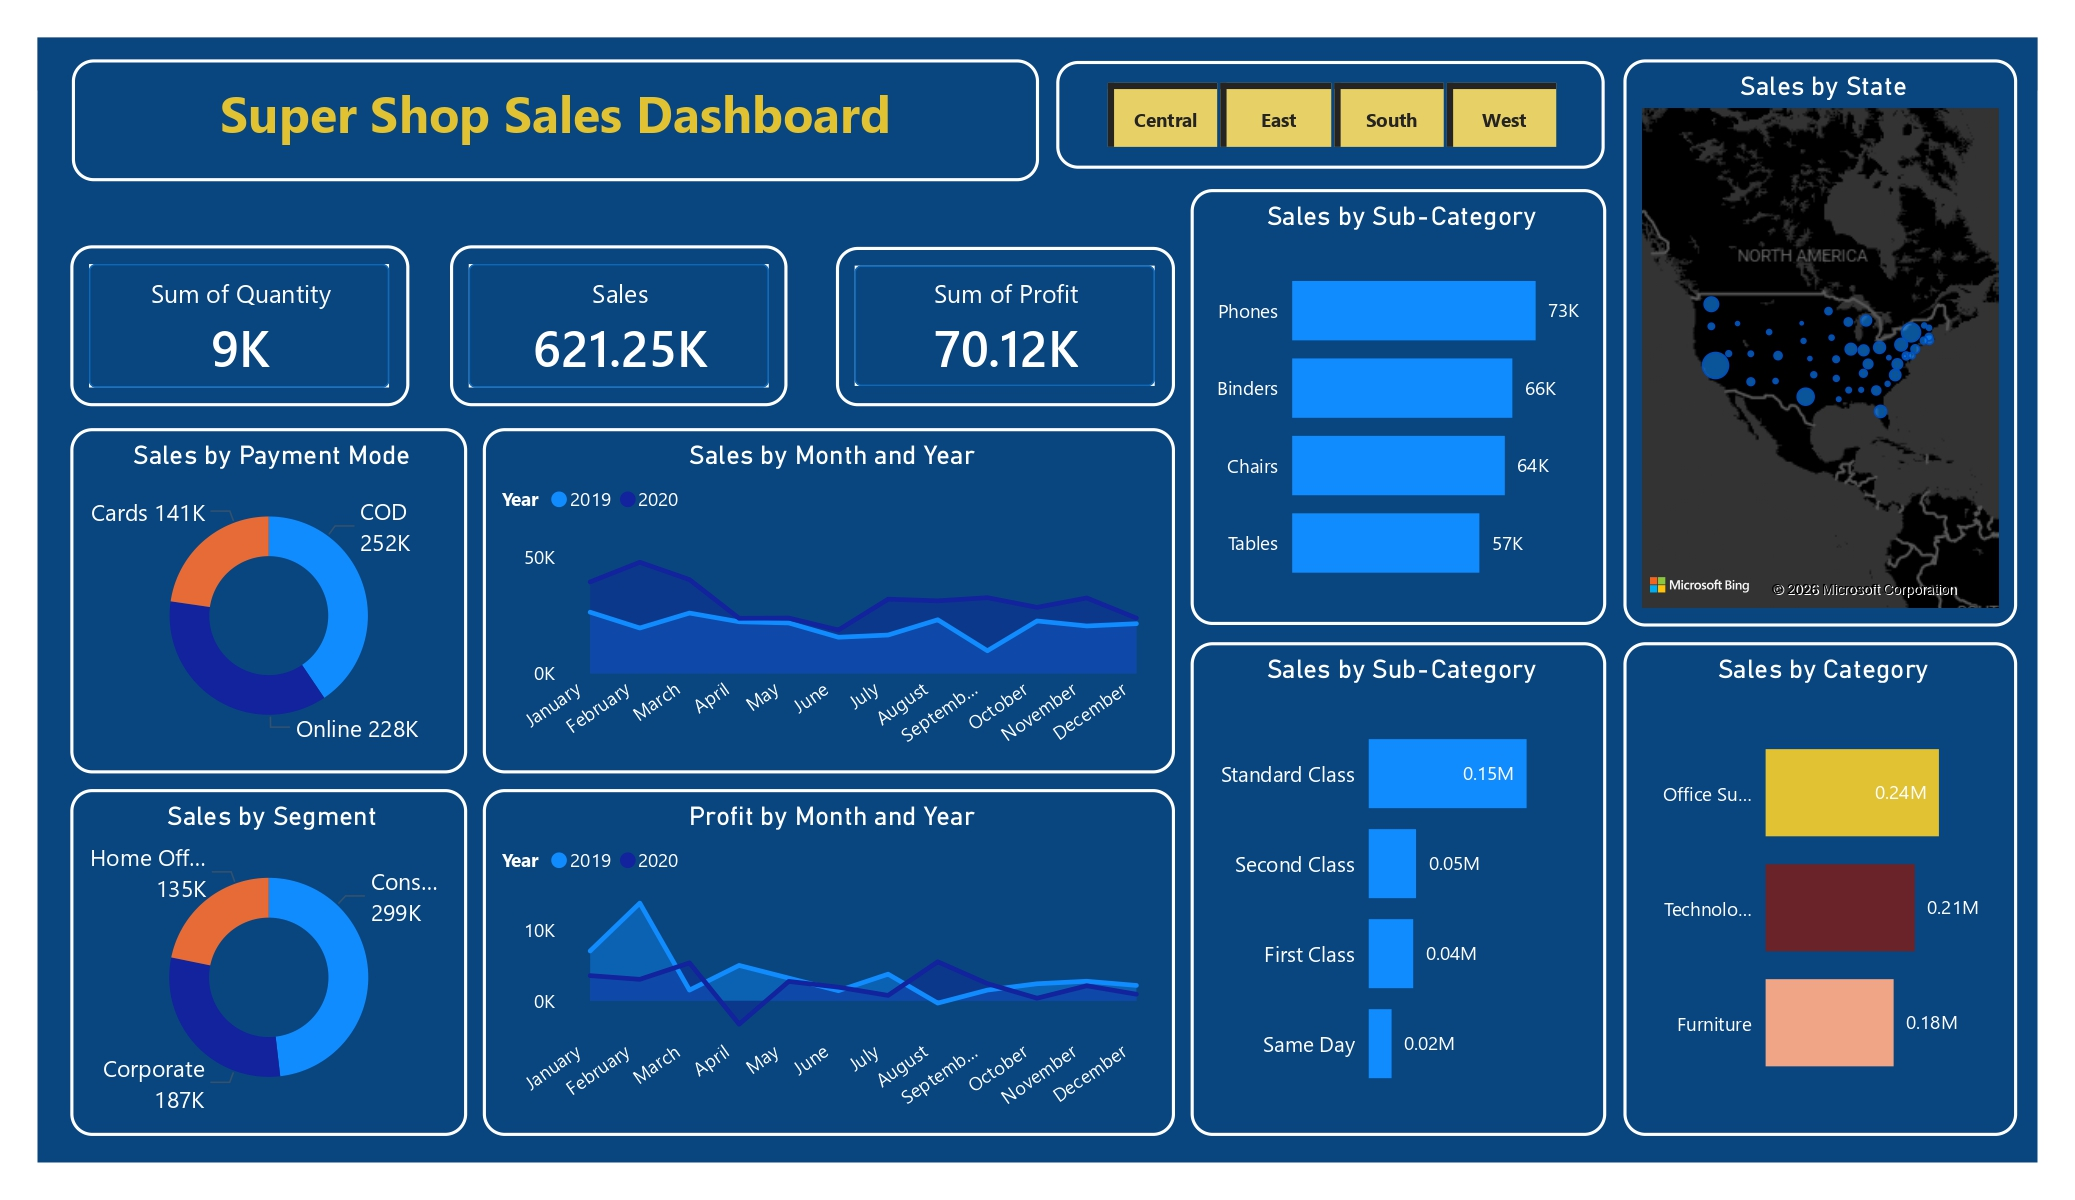

The dashboard page shown, as its layout file describes it:
{"tool":"powerbi","page":{"name":"Page 1","canvas":[1280,720],"ordinal":0},"visuals":[{"type":"clusteredBarChart","title":"Sales by Category","fields":{"Category":["SuperStore_Sales_Dataset.Category"],"Y":["Sum(SuperStore_Sales_Dataset.Sales)"]},"box":[1014.8,386.9,252.5,316.4],"z":0},{"type":"clusteredBarChart","title":"Sales by Sub-Category","fields":{"Y":["Sum(SuperStore_Sales_Dataset.Sales)"],"Category":["SuperStore_Sales_Dataset.Sub-Category"]},"box":[738.2,97.4,265.7,279],"z":1000},{"type":"clusteredBarChart","title":"Sales by Sub-Category","fields":{"Y":["Sum(SuperStore_Sales_Dataset.Sales)"],"Category":["SuperStore_Sales_Dataset.Ship Mode"]},"box":[738.2,386.8,265.7,315.9],"z":2000},{"type":"areaChart","title":"Sales by Month and Year","fields":{"Category":["SuperStore_Sales_Dataset.Order Date.Variation.Date Hierarchy.Month"],"Y":["Sum(SuperStore_Sales_Dataset.Sales)"],"Series":["SuperStore_Sales_Dataset.Order Date.Variation.Date Hierarchy.Year"]},"box":[284.9,249.5,442.9,221.5],"z":3000},{"type":"areaChart","title":"Profit by Month and Year","fields":{"Category":["SuperStore_Sales_Dataset.Order Date.Variation.Date Hierarchy.Month"],"Series":["SuperStore_Sales_Dataset.Order Date.Variation.Date Hierarchy.Year"],"Y":["Sum(SuperStore_Sales_Dataset.Profit)"]},"box":[284.9,481.3,442.9,221.5],"z":4000},{"type":"map","title":"Sales by State","fields":{"Category":["SuperStore_Sales_Dataset.State"],"Size":["Sum(SuperStore_Sales_Dataset.Sales)"]},"box":[1015.2,14.4,252,362.9],"z":5000},{"type":"donutChart","title":"Sales by Payment Mode","fields":{"Category":["SuperStore_Sales_Dataset.Payment Mode"],"Y":["Sum(SuperStore_Sales_Dataset.Sales)"]},"box":[20.7,249.5,253.9,221.5],"z":6000},{"type":"donutChart","title":"Sales by Segment","fields":{"Y":["Sum(SuperStore_Sales_Dataset.Sales)"],"Category":["SuperStore_Sales_Dataset.Segment"]},"box":[20.7,481.3,253.9,221.5],"z":7000},{"type":"slicer","fields":{"Values":["SuperStore_Sales_Dataset.Region"]},"box":[652.5,14.8,350.8,68.9],"z":8000},{"type":"textbox","box":[21.6,14.4,619.2,77.8],"z":9000},{"type":"cardVisual","fields":{"Data":["Sum(SuperStore_Sales_Dataset.Sales)"]},"box":[263.9,132.8,216.4,103.3],"z":10000},{"type":"cardVisual","fields":{"Data":["Sum(SuperStore_Sales_Dataset.Profit)"]},"box":[511.5,134.4,216.4,101.6],"z":11000},{"type":"cardVisual","fields":{"Data":["Sum(SuperStore_Sales_Dataset.Quantity)"]},"box":[21.3,132.8,216.4,103.3],"z":12000}]}

Visuals, with their boxes in screenshot pixels (x1, y1, x2, y2):
"Sales by Category" clusteredBarChart: x1=1628 y1=651 x2=2031 y2=1157
"Sales by Sub-Category" clusteredBarChart: x1=1186 y1=188 x2=1610 y2=634
"Sales by Sub-Category" clusteredBarChart: x1=1186 y1=651 x2=1610 y2=1156
"Sales by Month and Year" areaChart: x1=461 y1=431 x2=1169 y2=785
"Profit by Month and Year" areaChart: x1=461 y1=802 x2=1169 y2=1156
"Sales by State" map: x1=1628 y1=55 x2=2031 y2=636
"Sales by Payment Mode" donutChart: x1=38 y1=431 x2=444 y2=785
"Sales by Segment" donutChart: x1=38 y1=802 x2=444 y2=1156
slicer - SuperStore_Sales_Dataset.Region: x1=1049 y1=56 x2=1609 y2=166
textbox: x1=40 y1=55 x2=1030 y2=180
cardVisual - Sum(SuperStore_Sales_Dataset.Sales): x1=427 y1=245 x2=773 y2=410
cardVisual - Sum(SuperStore_Sales_Dataset.Profit): x1=823 y1=247 x2=1169 y2=410
cardVisual - Sum(SuperStore_Sales_Dataset.Quantity): x1=39 y1=245 x2=385 y2=410
